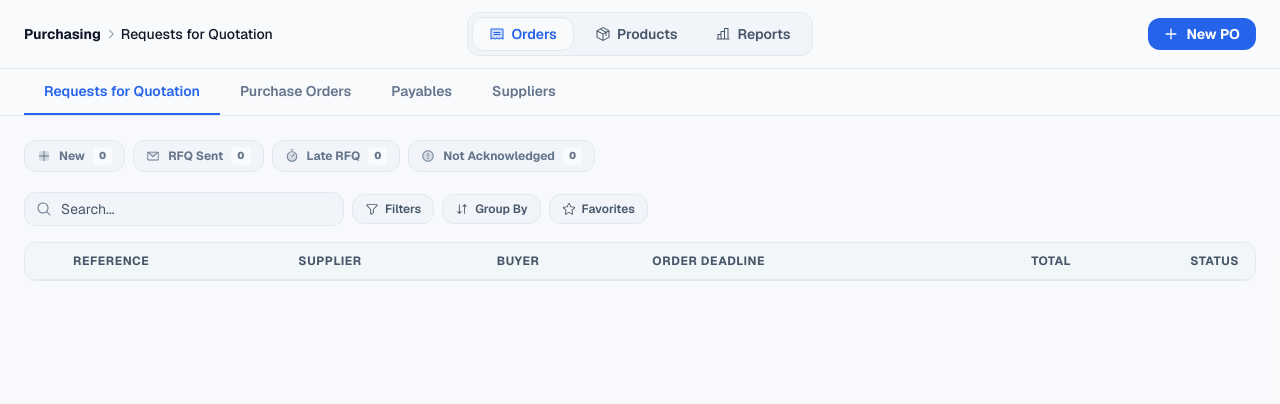
Test: Purchasing products: search, status filter and empty state › labels the products search box for assistive tech
Click the button "Products".
click(636, 34)  # box left=578, top=17, right=694, bottom=51
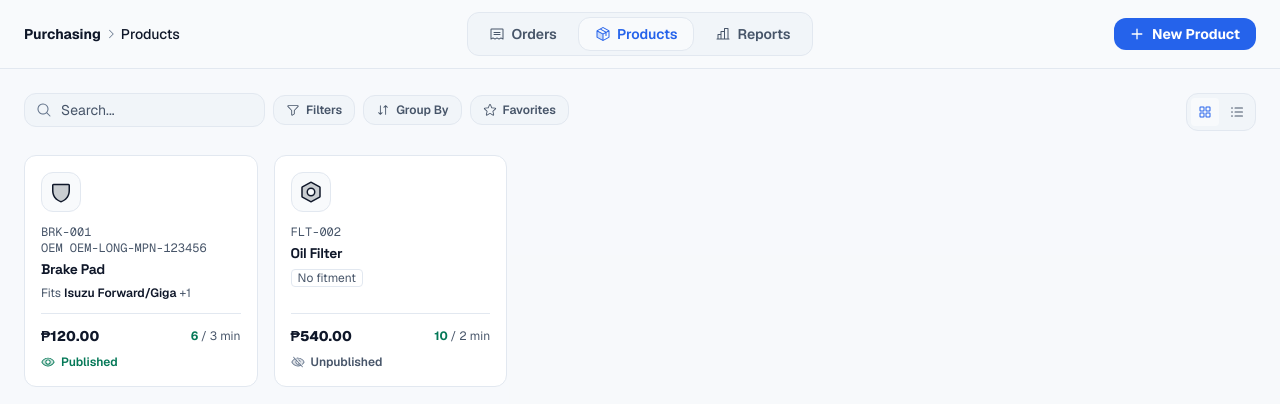
Expected: the field named "Search products" is shown, left=24, top=93, right=265, bottom=127
